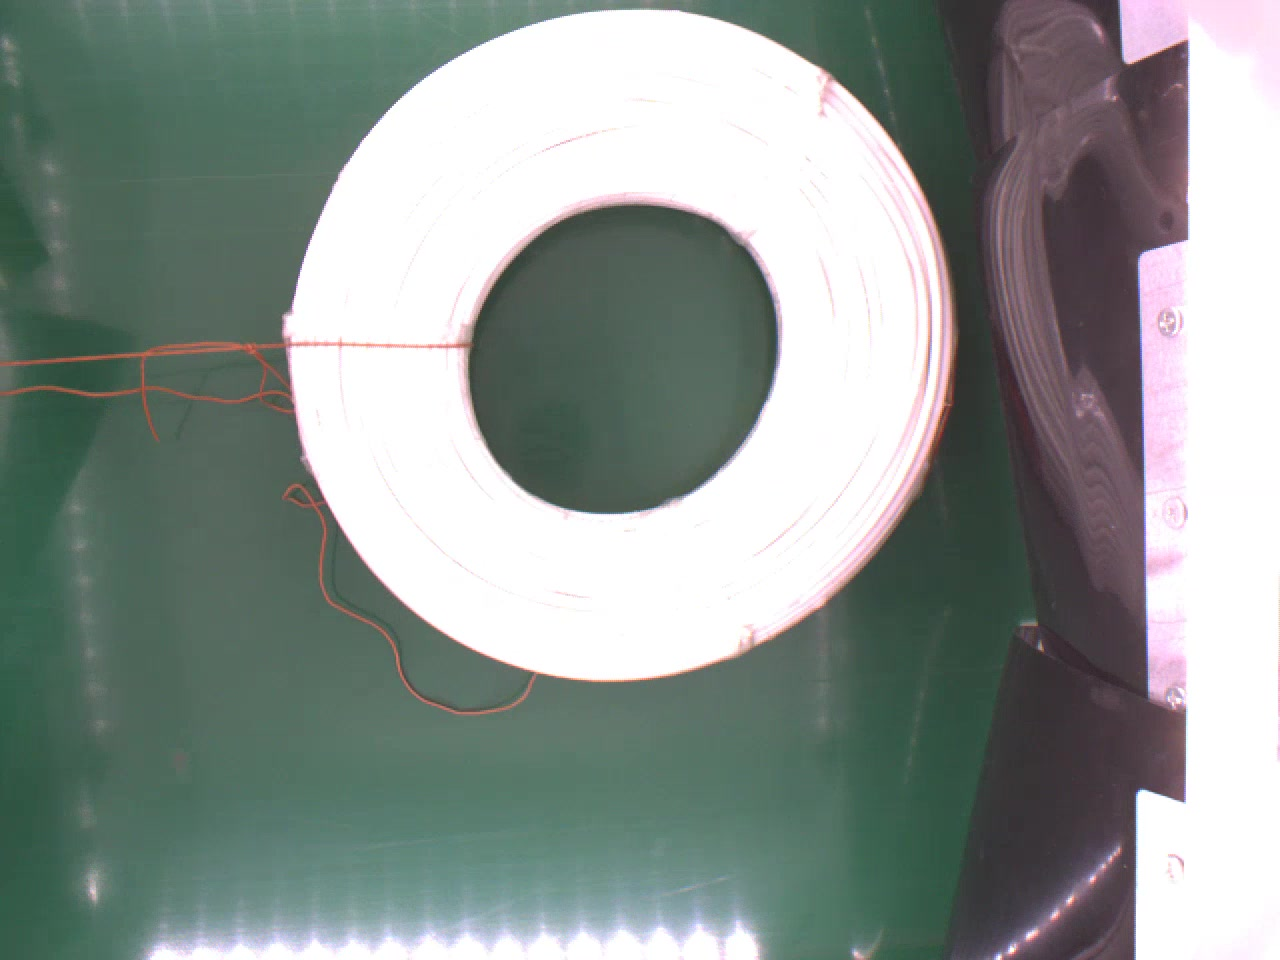white: (275, 7, 965, 685)
